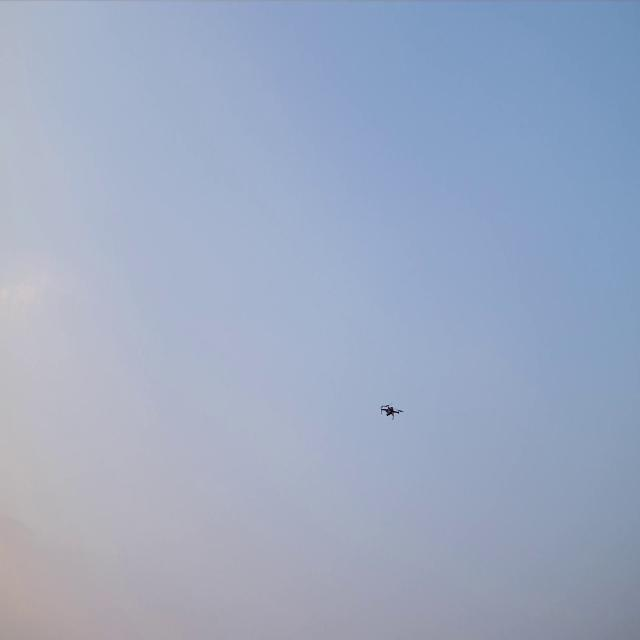UAV: (378, 402, 406, 422)
